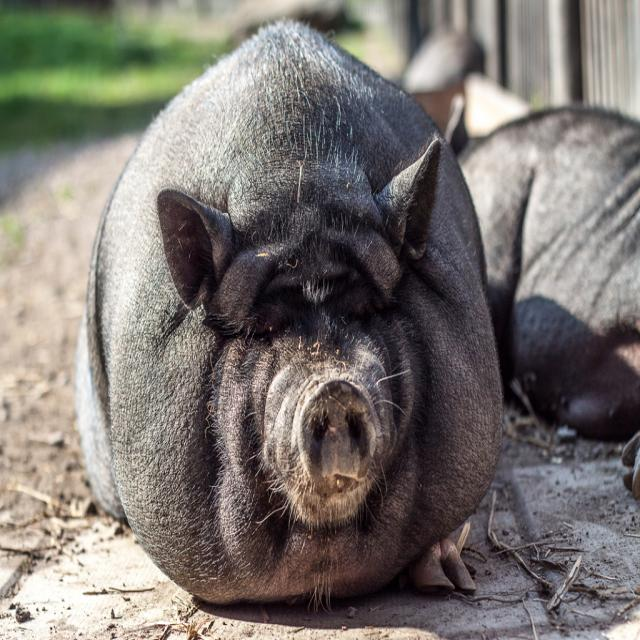Pig: (74, 18, 505, 612), (445, 94, 640, 501)
